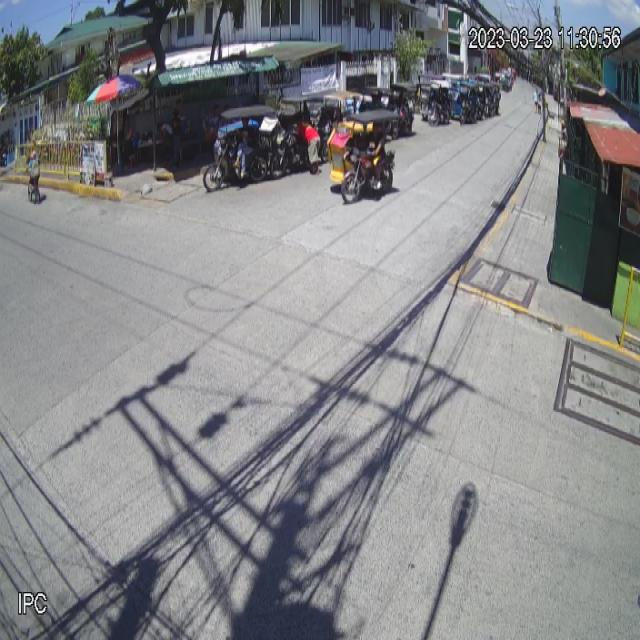Tricycle: (327, 110, 399, 206)
